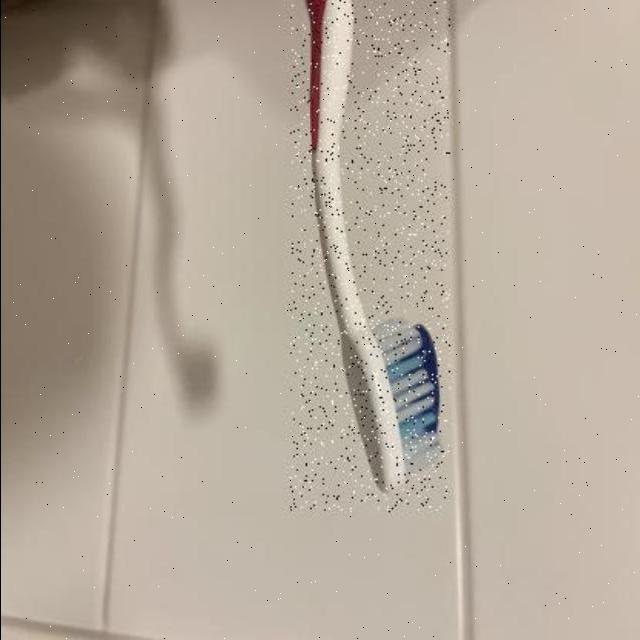toothbrush: (289, 0, 449, 512)
